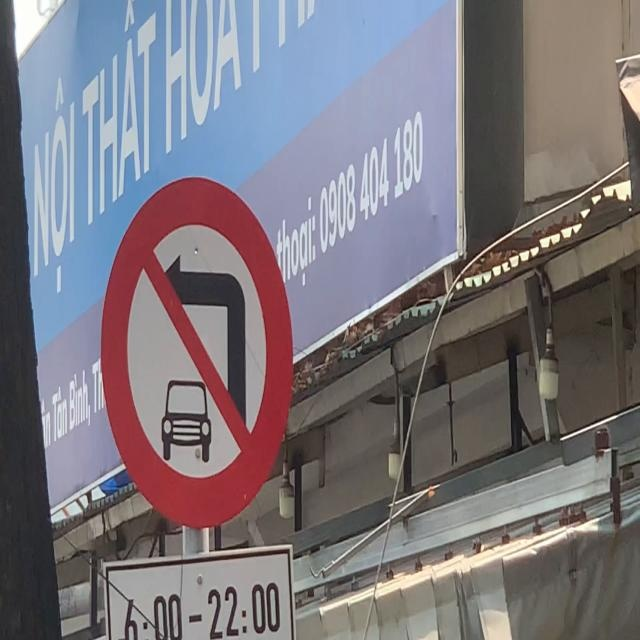bien_cam: (100, 174, 294, 529)
